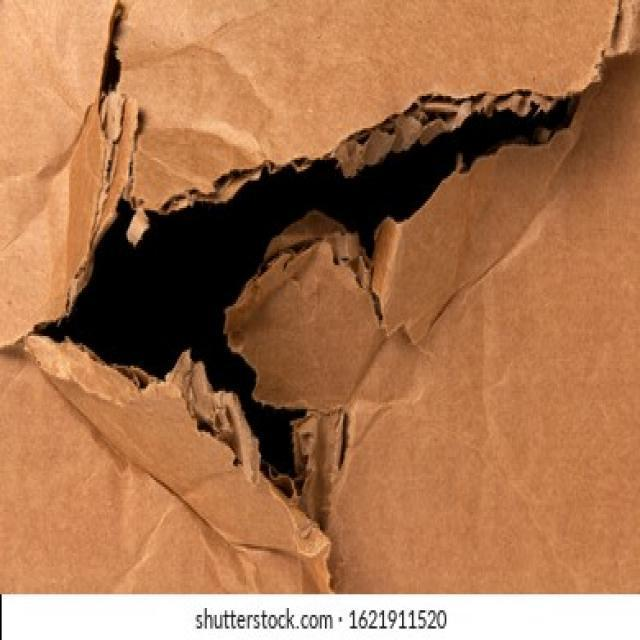damaged: (66, 1, 585, 523)
